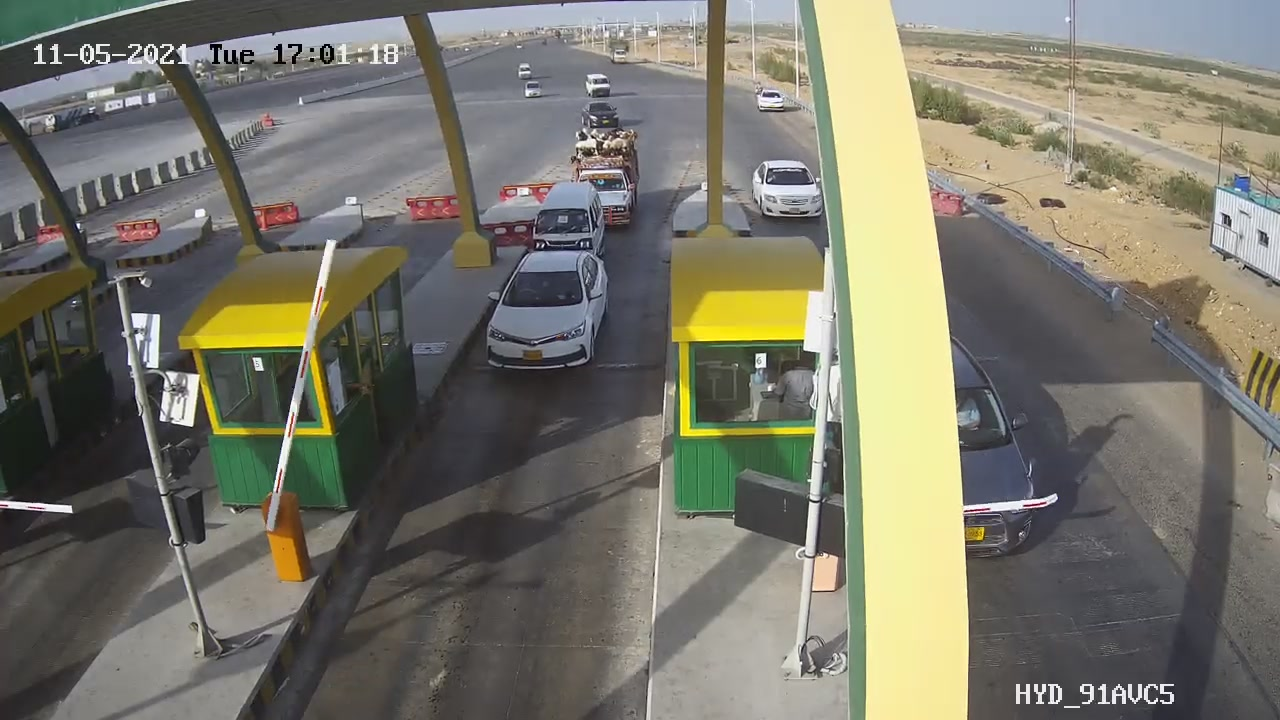F1: (468, 242, 625, 390)
